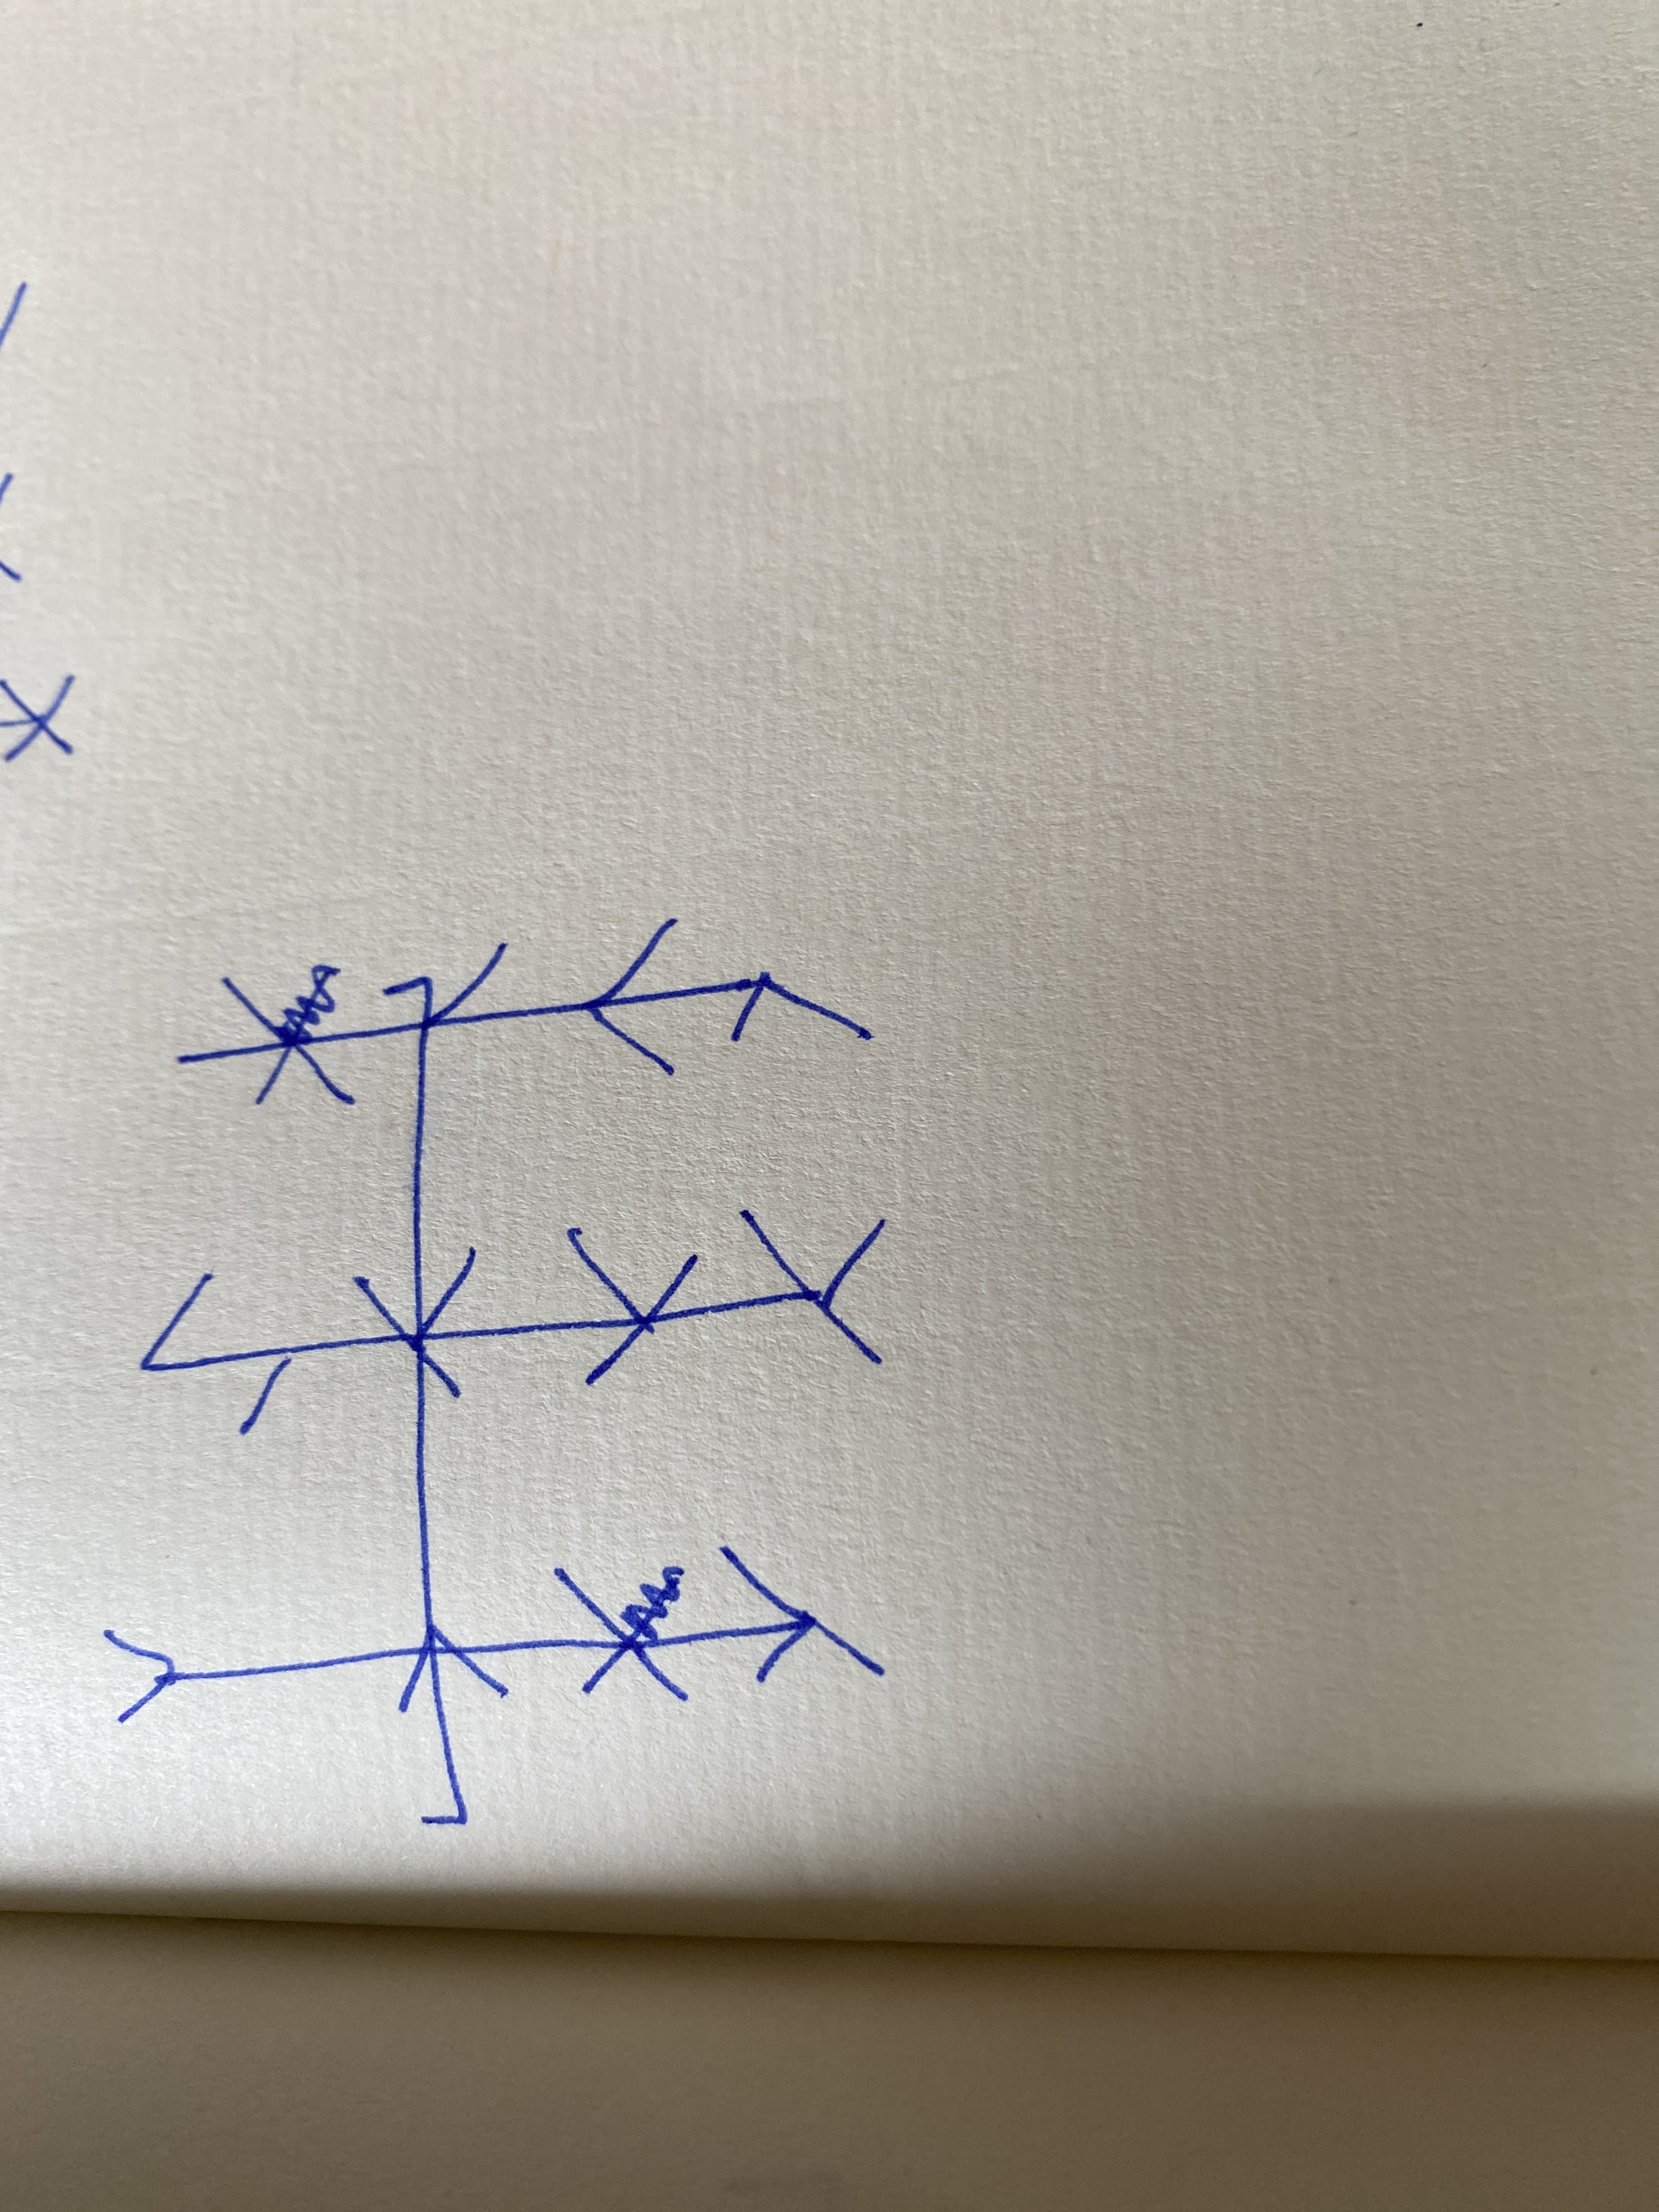Bar: (138, 1211, 889, 1439), (105, 1545, 884, 1728), (174, 914, 877, 1109)
Barcode: (103, 913, 889, 1827)
End: (380, 974, 432, 1012)
Start: (418, 1684, 469, 1825)
